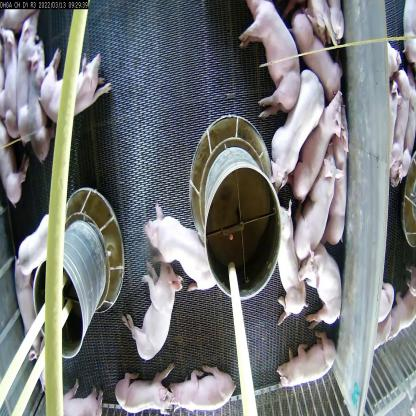Pig: (143, 206, 217, 296), (242, 0, 300, 110), (124, 258, 180, 368), (270, 72, 321, 188), (38, 49, 116, 122), (268, 199, 308, 327), (300, 91, 342, 202), (297, 154, 336, 266), (171, 360, 240, 415), (25, 44, 55, 164), (278, 332, 338, 390), (300, 244, 341, 326), (114, 368, 178, 415), (14, 208, 57, 270), (14, 10, 34, 140), (50, 379, 109, 416)
